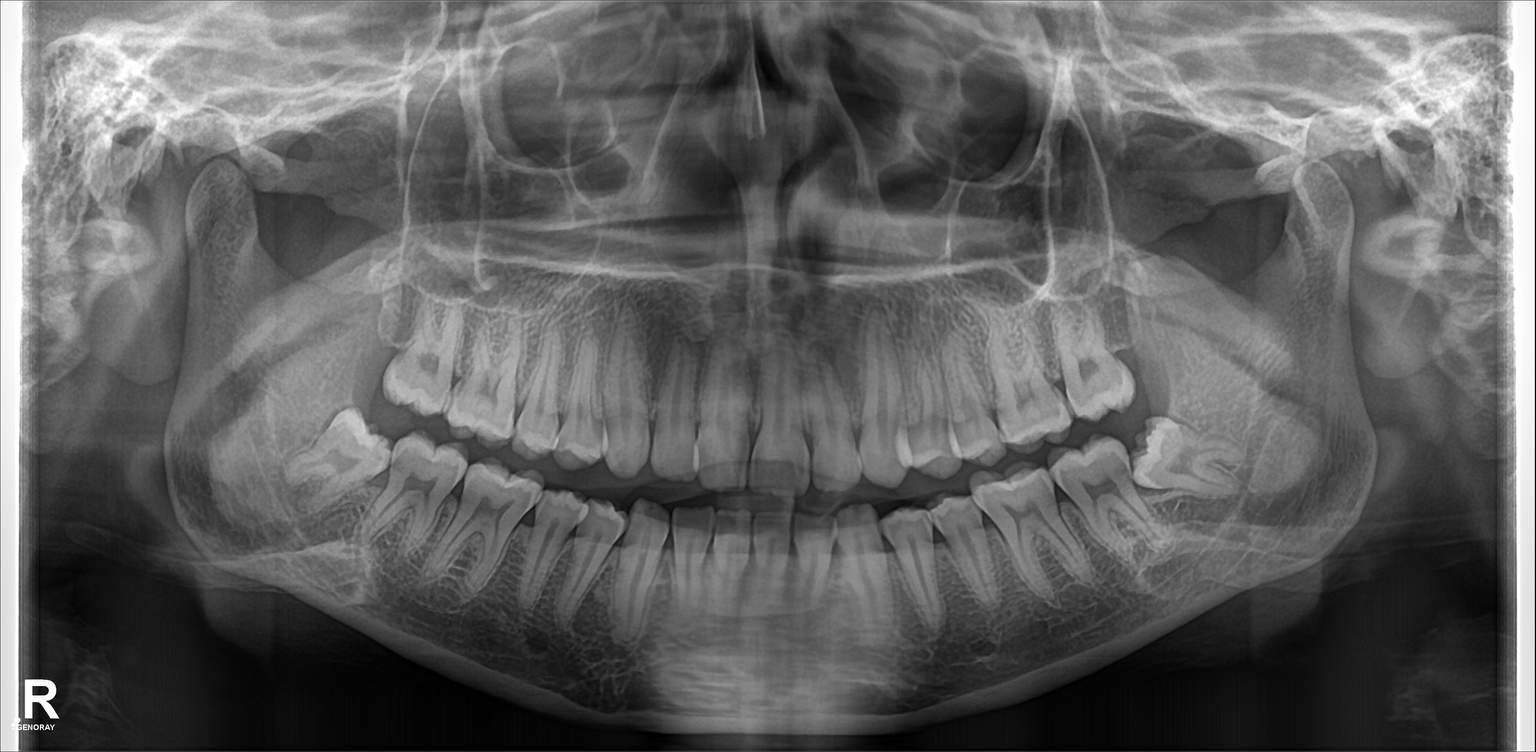Impacted Third Molar: (291, 418, 389, 498), (1142, 424, 1241, 499)
Missing Tooth: (359, 283, 399, 398), (1125, 303, 1165, 392)
